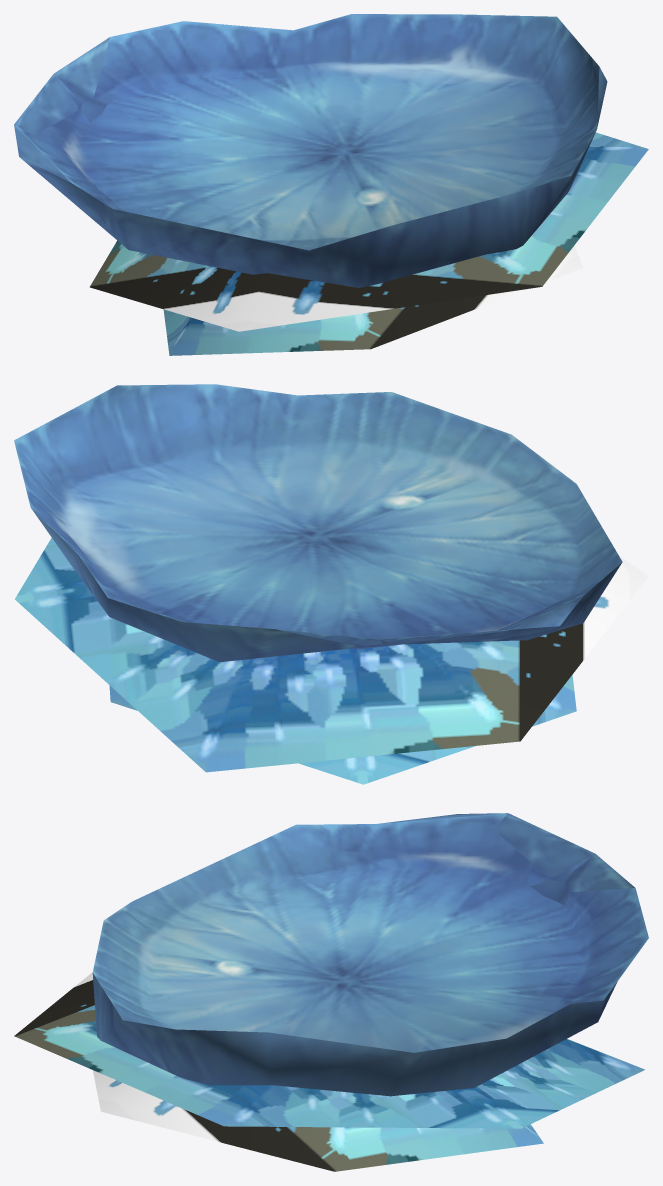
Rendered from Map_10_plant02.FBX.
The picture shows the model from 3 angles, top to bottom: view 1: azimuth 30°, elevation 25°; view 2: azimuth 150°, elevation 25°; view 3: azimuth 270°, elevation 25°; orthographic projection. The views are drawn at different scales.
Parts seen in each view (by area): view 1: Map_10_plant02a, Map_10_plant02b; view 2: Map_10_plant02a, Map_10_plant02b; view 3: Map_10_plant02a, Map_10_plant02b.
Part boxes in pixels (x1,y1,x2,y2): Map_10_plant02a: [14, 14, 607, 287]; Map_10_plant02b: [90, 132, 648, 355]; Map_10_plant02a: [14, 384, 622, 662]; Map_10_plant02b: [15, 538, 648, 784]; Map_10_plant02a: [92, 813, 648, 1096]; Map_10_plant02b: [14, 972, 644, 1171].
Size of the model in its own units: 158 by 59.26 by 157.
